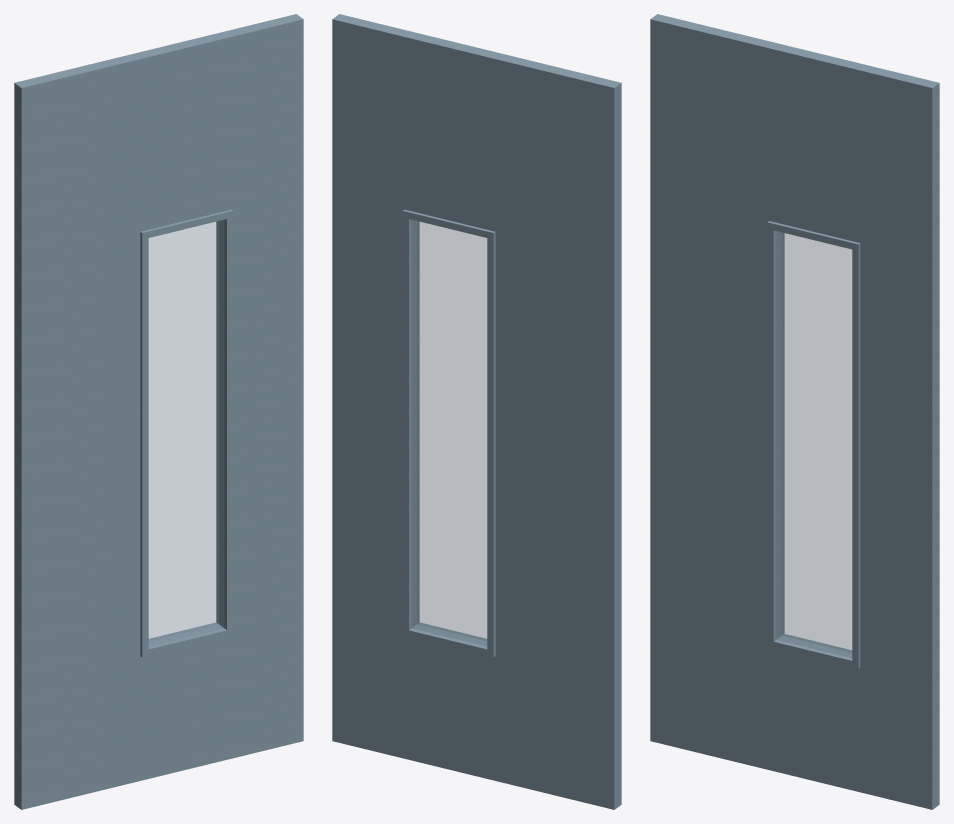
The model's file is LabDoorRight.dae.
3 renders of one model, left to right at view 1: azimuth 30°, elevation 25°; view 2: azimuth 150°, elevation 25°; view 3: azimuth 330°, elevation 25°, orthographic.
Parts seen in each view (by area): view 1: LabDoorRight-Pivot; view 2: LabDoorRight-Pivot; view 3: LabDoorRight-Pivot.
Part boxes in pixels (x1,y1,x2,y2): LabDoorRight-Pivot: (14,14,303,809); LabDoorRight-Pivot: (332,14,621,809); LabDoorRight-Pivot: (650,14,939,809).
Bounding box in the file's own units: 90 × 6 × 220.
Materials: 2 (2 with a texture image).
